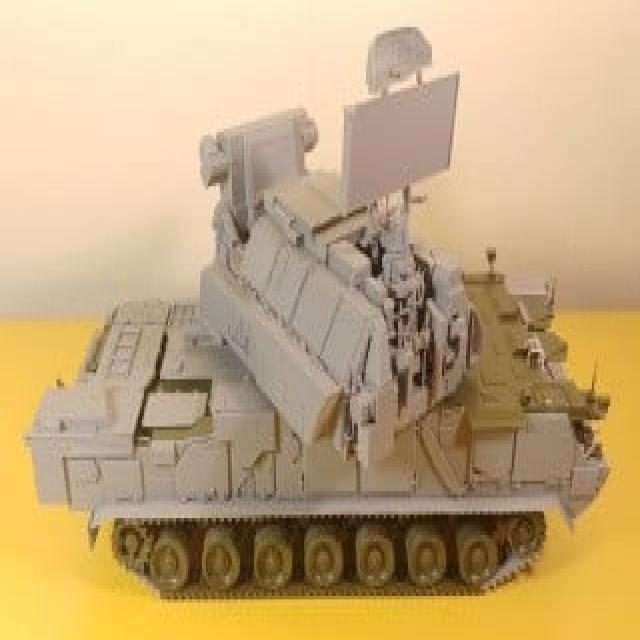MIL_EW_RDR: (42, 47, 598, 590)
